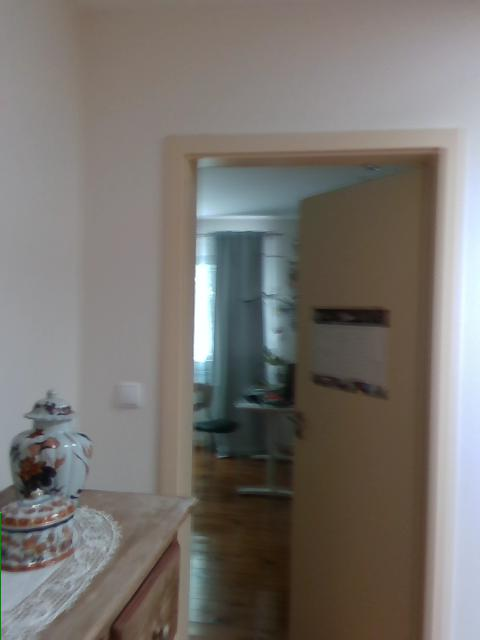semi_door: (158, 128, 465, 639)
